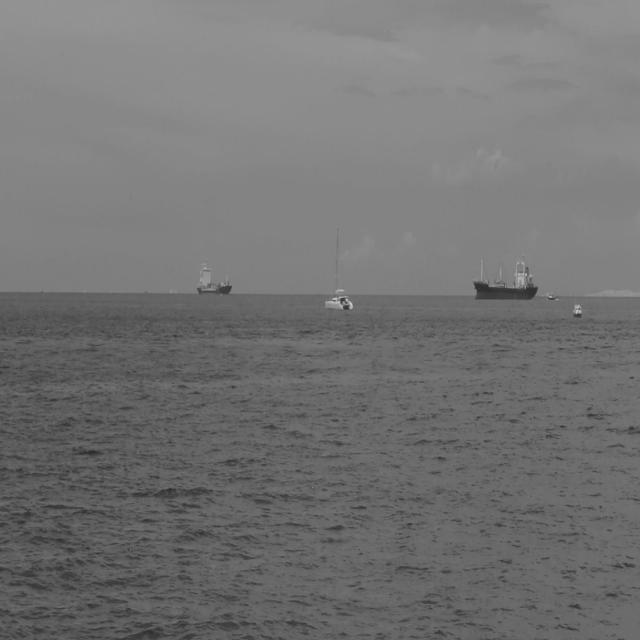boat: (324, 222, 354, 313)
ship: (470, 250, 539, 302), (195, 260, 233, 298), (572, 300, 584, 320), (548, 293, 556, 301)
